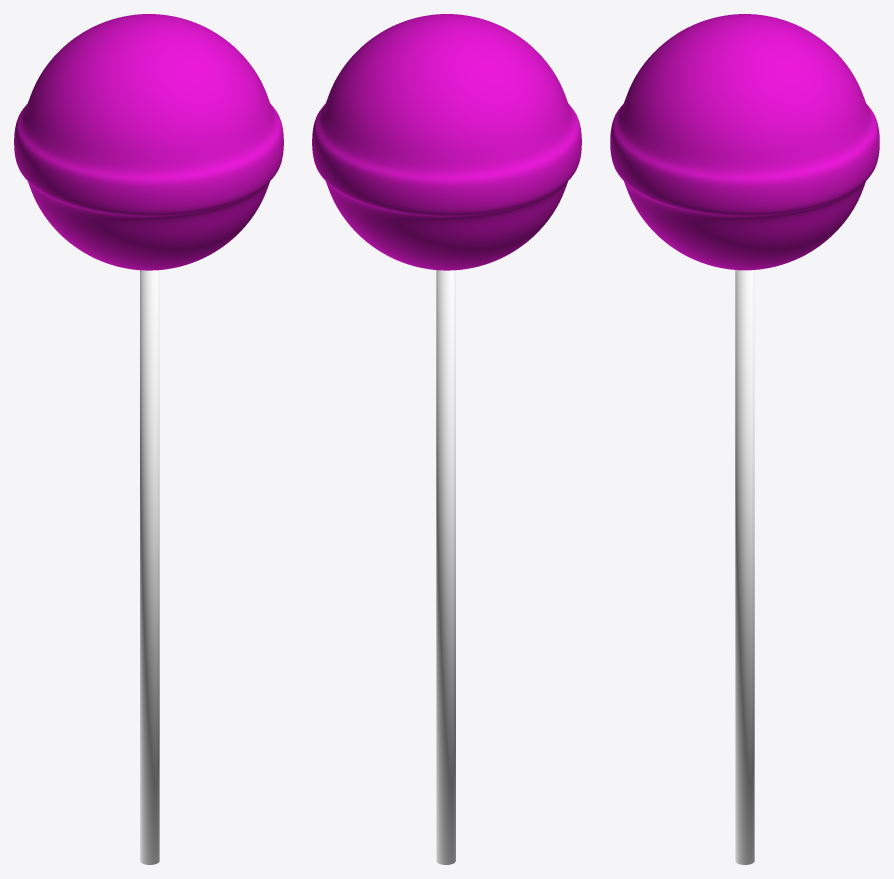
File: giant_lollipop_pink_v3.fbx
3 views of the same model, side by side, from view 1: azimuth 30°, elevation 25°; view 2: azimuth 150°, elevation 25°; view 3: azimuth 270°, elevation 25° (orthographic).
Parts seen in each view (by area): view 1: lollipop, cabo; view 2: lollipop, cabo; view 3: lollipop, cabo.
Boxes of the visible parts, x1,y1,x2,y2 form: lollipop: (14,14,283,270); cabo: (140,270,159,864); lollipop: (312,14,581,270); cabo: (436,270,455,864); lollipop: (610,14,879,270); cabo: (735,270,754,864).
Bounding box in the file's own units: 401 × 1371 × 401.
